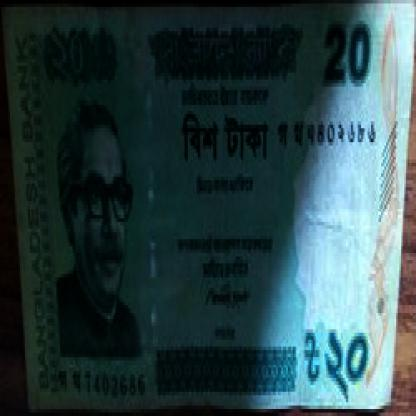Twenty: (176, 111, 276, 173), (298, 329, 386, 399), (42, 35, 128, 94), (320, 21, 384, 94)
